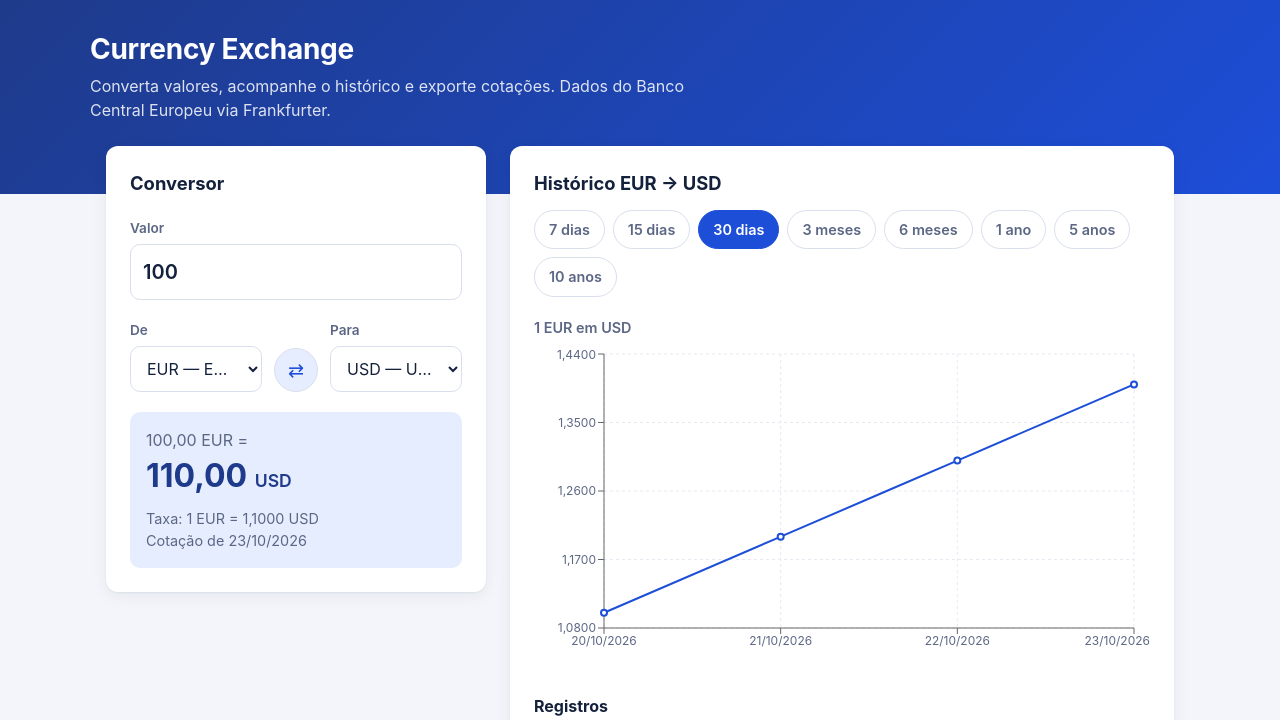
Scenario: App (integração com fetch simulado) › inverte as moedas e recarrega com a taxa do novo par
Expected: the text "110,00" is shown, [146, 456, 247, 495]
Click the button named "inverter moedas": x=296, y=370 [274, 348, 318, 392]
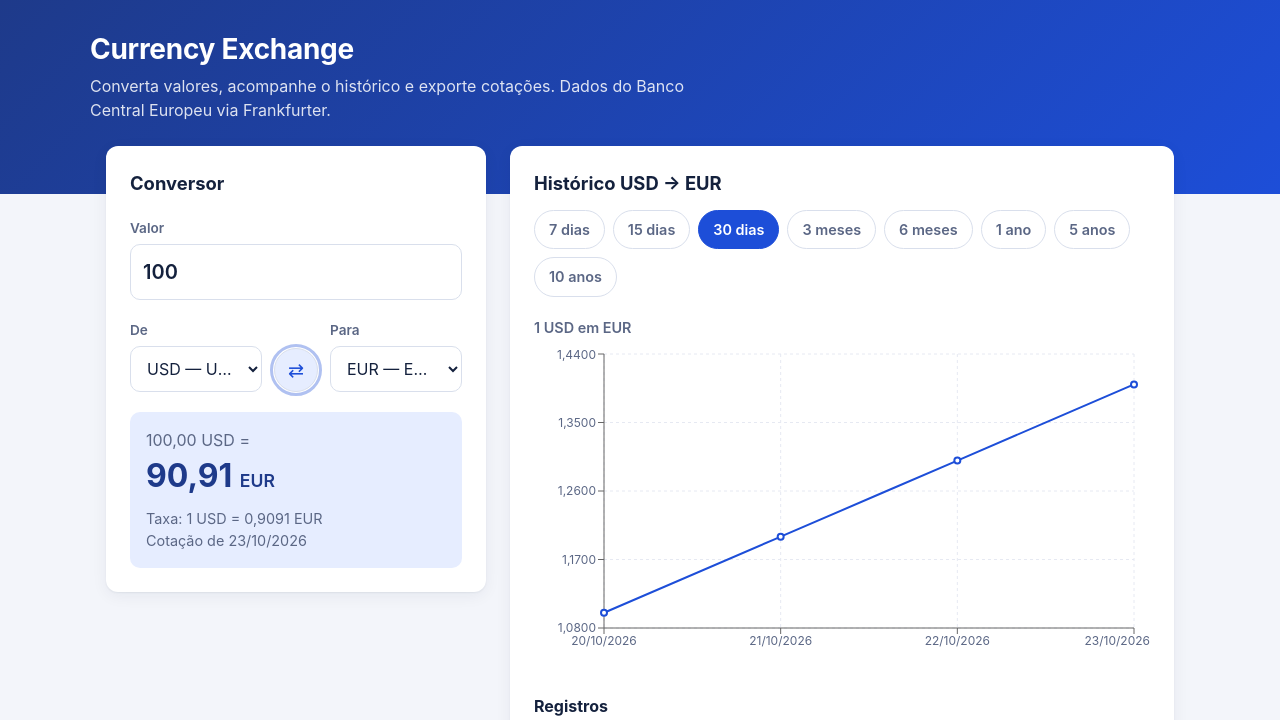
Now the text "90,91" is shown, box [146, 456, 232, 495]
Now the dropdown labelled "De" shows "USD — United States Dollar", box [130, 346, 262, 392]
Now the dropdown labelled "Para" shows "EUR — Euro", box [330, 346, 462, 392]
